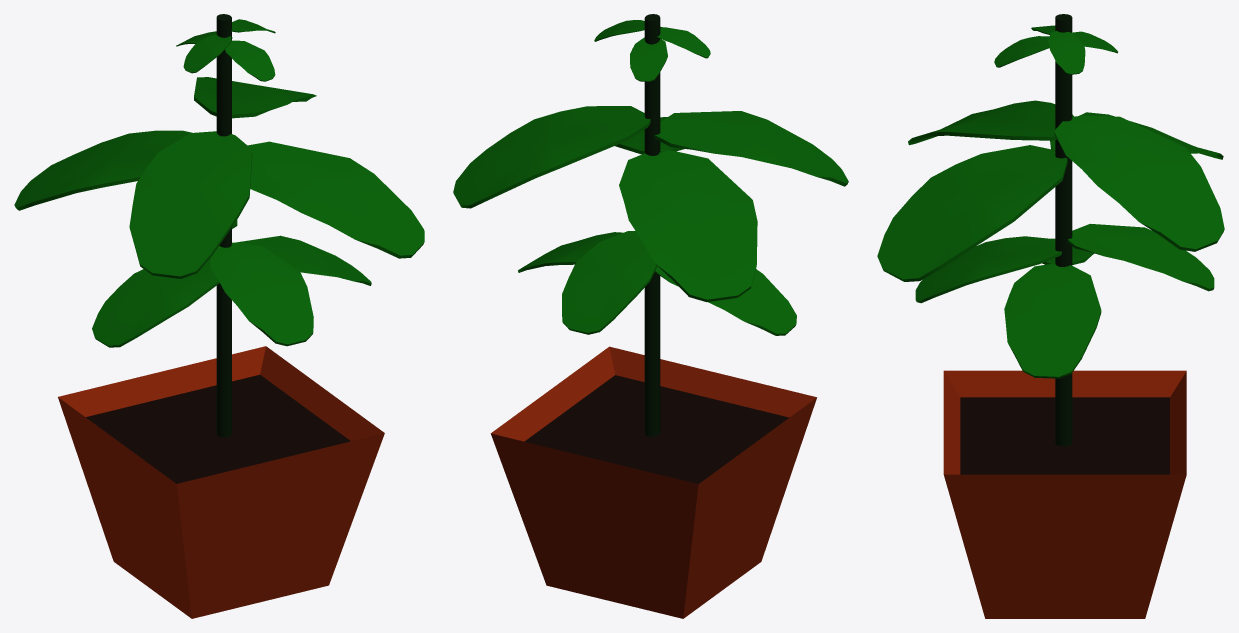
The model's file is Plant.fbx.
3 renders of one model, left to right at view 1: azimuth 30°, elevation 25°; view 2: azimuth 150°, elevation 25°; view 3: azimuth 270°, elevation 25°, orthographic. The views are drawn at different scales.
Visible parts, largest first — view 1: Mesh; view 2: Mesh; view 3: Mesh.
Part boxes in pixels (x1,y1,x2,y2): Mesh: (14, 14, 424, 618); Mesh: (453, 14, 848, 618); Mesh: (877, 14, 1224, 618).
Size of the model in its own units: 92.92 by 169 by 93.4.
